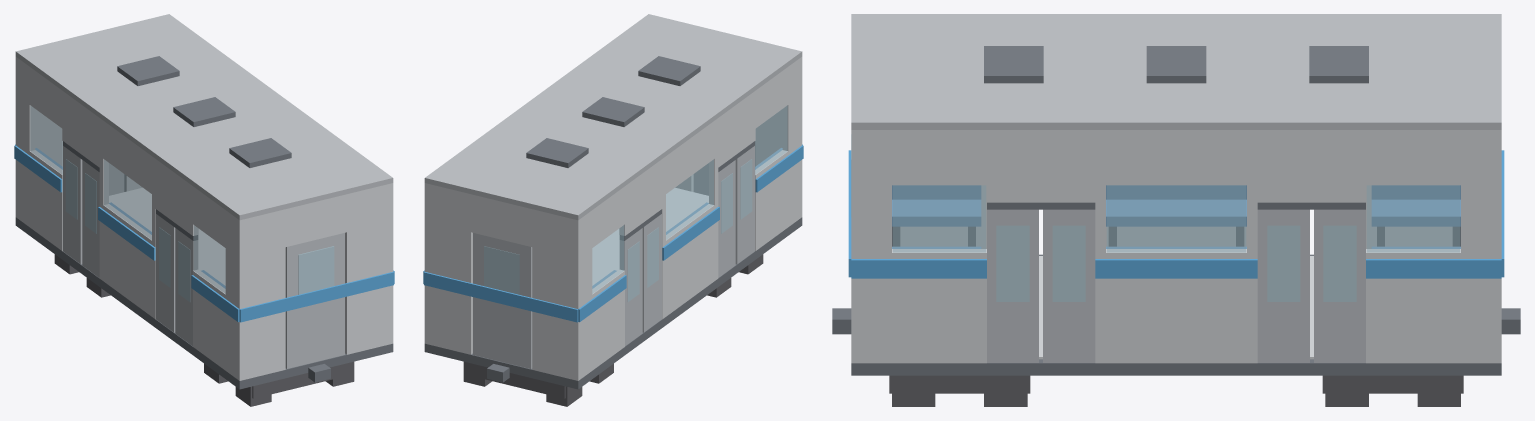
The model's file is train_subway_car.glb.
3 renders of one model, left to right at view 1: azimuth 30°, elevation 25°; view 2: azimuth 150°, elevation 25°; view 3: azimuth 270°, elevation 25°, orthographic. The views are drawn at different scales.
Visible parts, largest first — view 1: body; view 2: body; view 3: body.
Part boxes in pixels (x1,y1,x2,y2): body: (14,14,394,406); body: (423,14,803,406); body: (832,14,1520,406).
Size of the model in its own units: 1.94 by 2.52 by 5.08.
